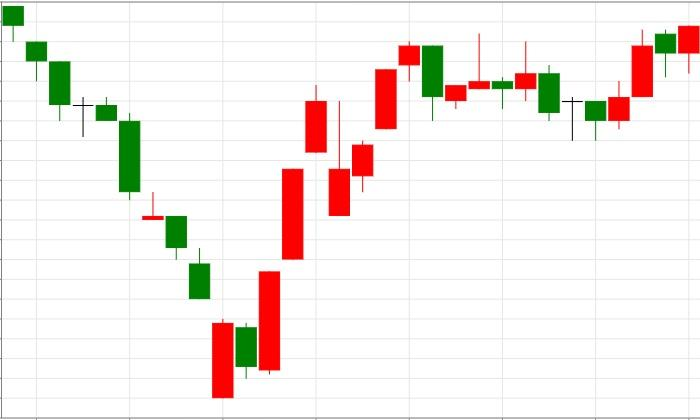three_white_soldiers_rise: (2, 4, 327, 399)
